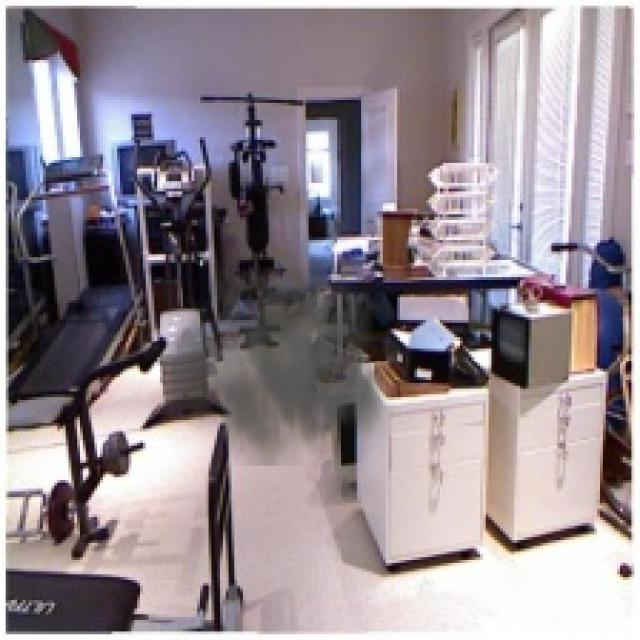Smoke: (172, 237, 398, 466)
